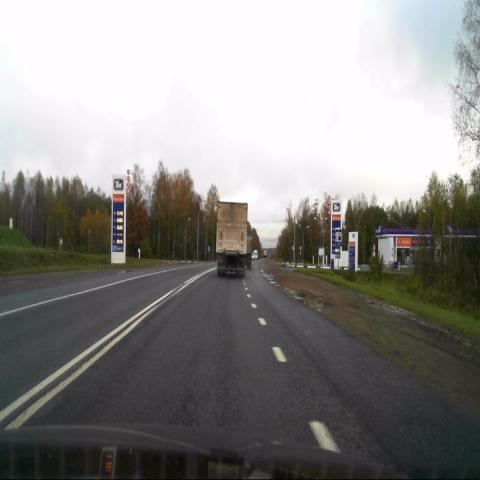7_3: (335, 229, 342, 246)
